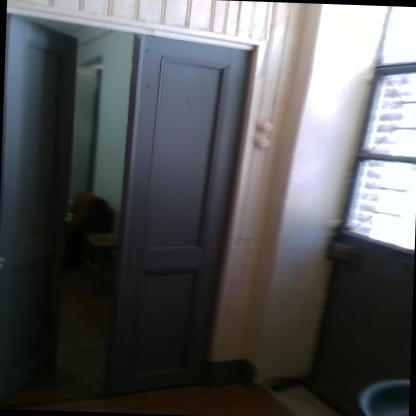semi: (0, 7, 261, 416)
